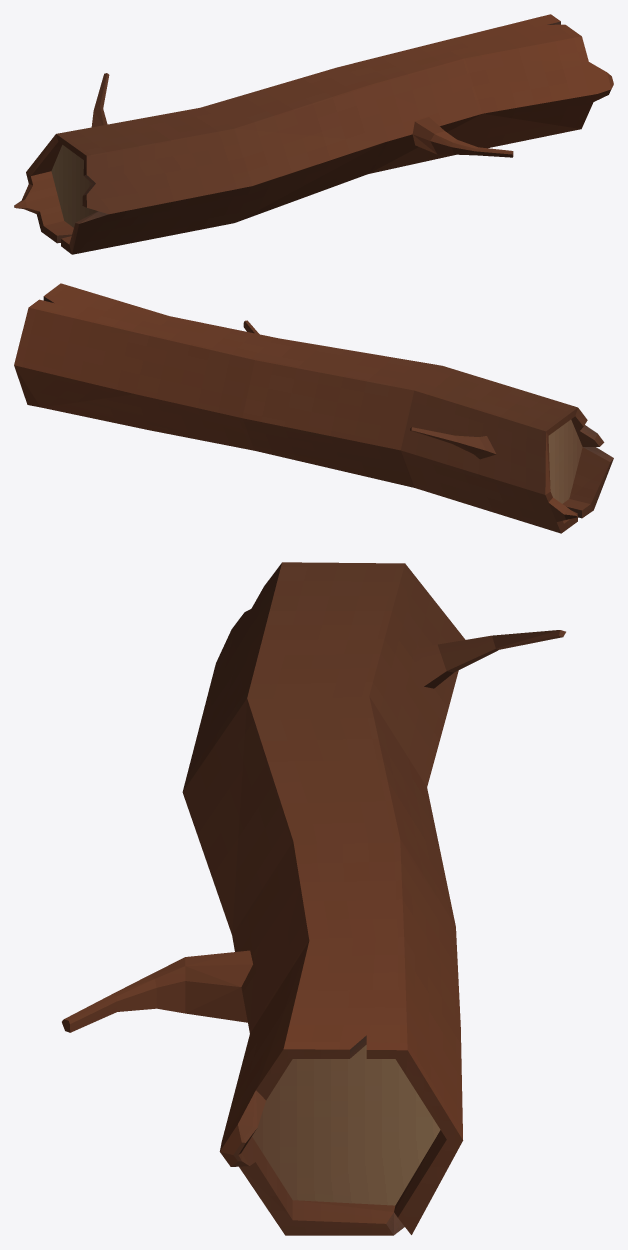
File: tronco_caido.glb
The picture shows the model from 3 angles, top to bottom: view 1: azimuth 30°, elevation 25°; view 2: azimuth 150°, elevation 25°; view 3: azimuth 270°, elevation 25°; orthographic projection. The views are drawn at different scales.
Parts seen in each view (by area): view 1: TreeLogOakB; view 2: TreeLogOakB; view 3: TreeLogOakB.
Part boxes in pixels (x1,y1,x2,y2): TreeLogOakB: (14, 14, 613, 254); TreeLogOakB: (14, 283, 613, 533); TreeLogOakB: (62, 562, 565, 1235).
Size of the model in its own units: 5.4 by 0.9862 by 2.14.
1 material, 1 textured.
